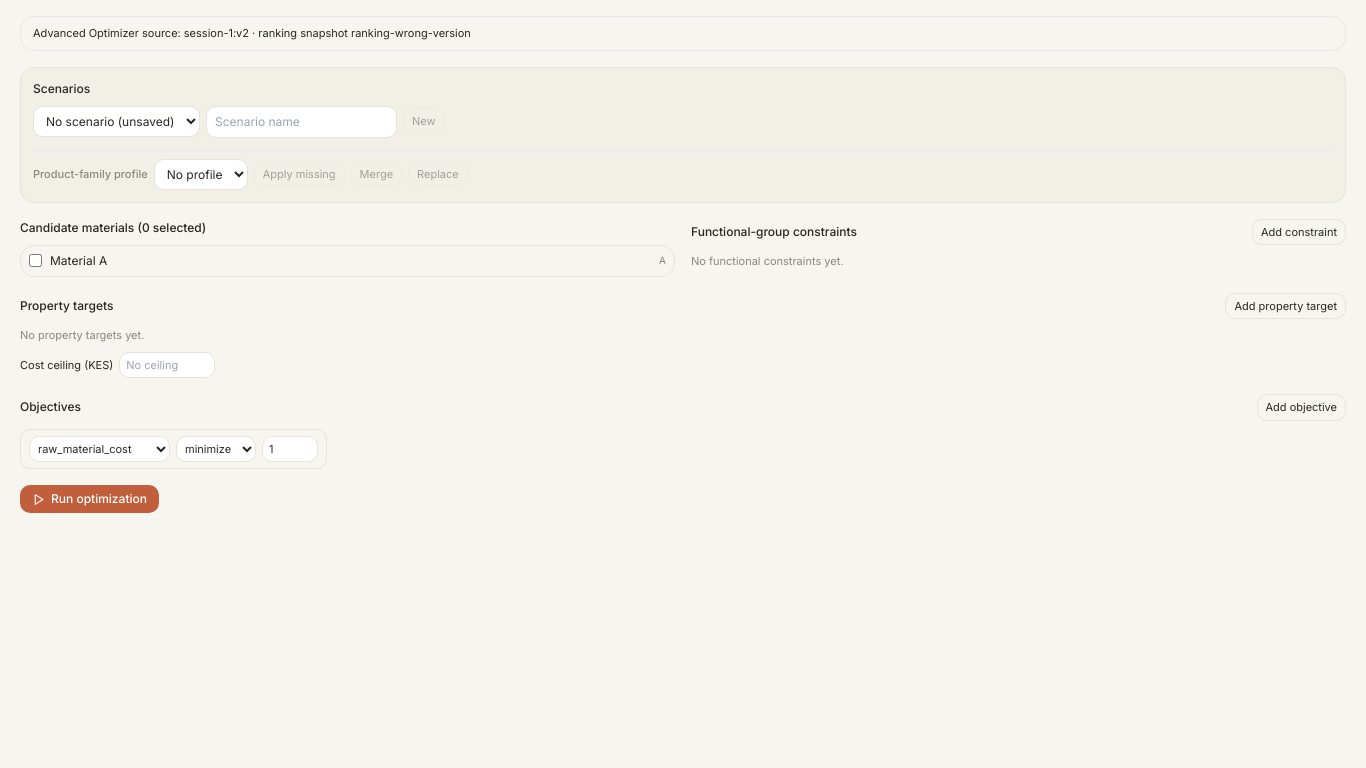
Test: AdvancedOptimizerPanel — run and result rendering › keeps the solver and run store untouched for wrong-version lineage
The image size is (1366, 768).
Expected: the text "Material A" is shown, top-left (50, 252), bottom-right (107, 270)
What coordinates should you click on to do the following:
click the checkbox labelled "Material A A"
I would click on:
 (36, 260)
Its box is top-left (29, 254), bottom-right (42, 267).
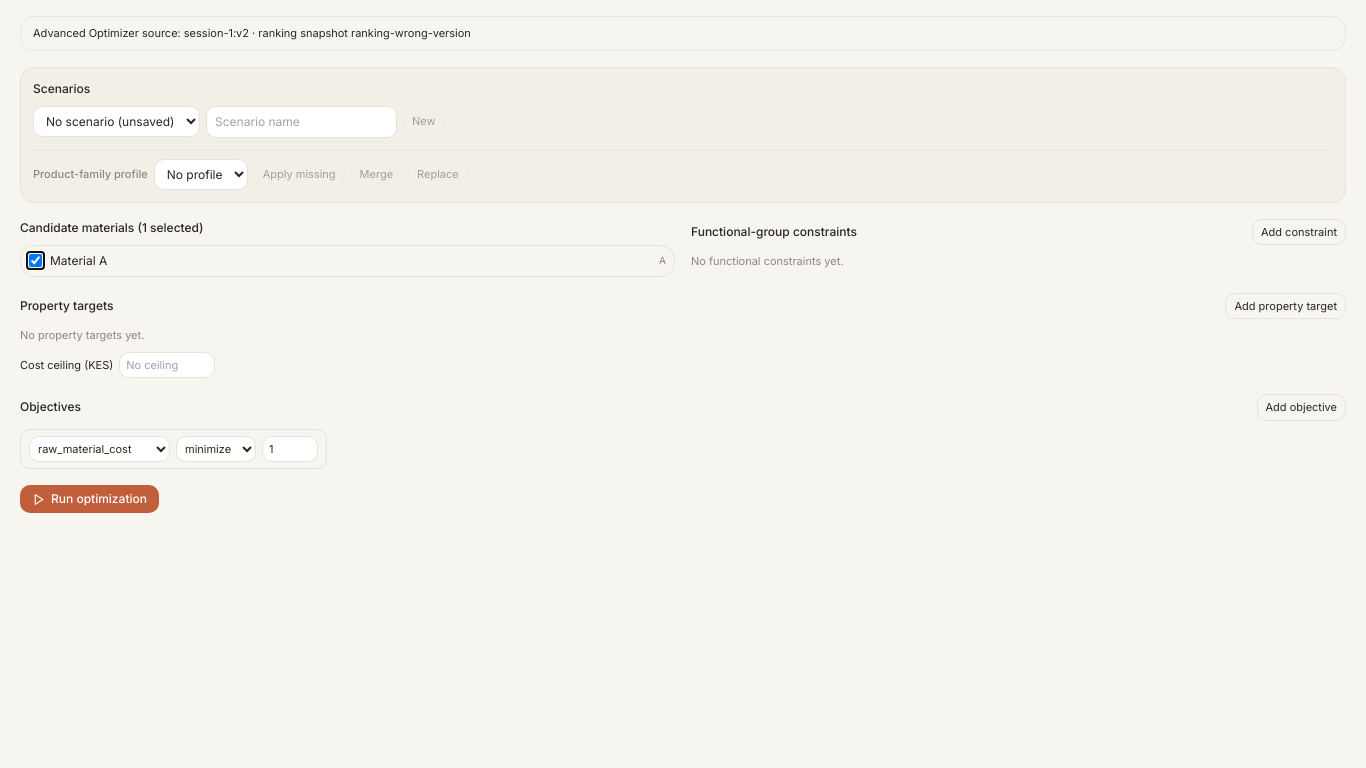
What coordinates should you click on to do the following:
click the button "Run optimization"
I would click on:
 (90, 499)
Its box is top-left (20, 485), bottom-right (159, 513).
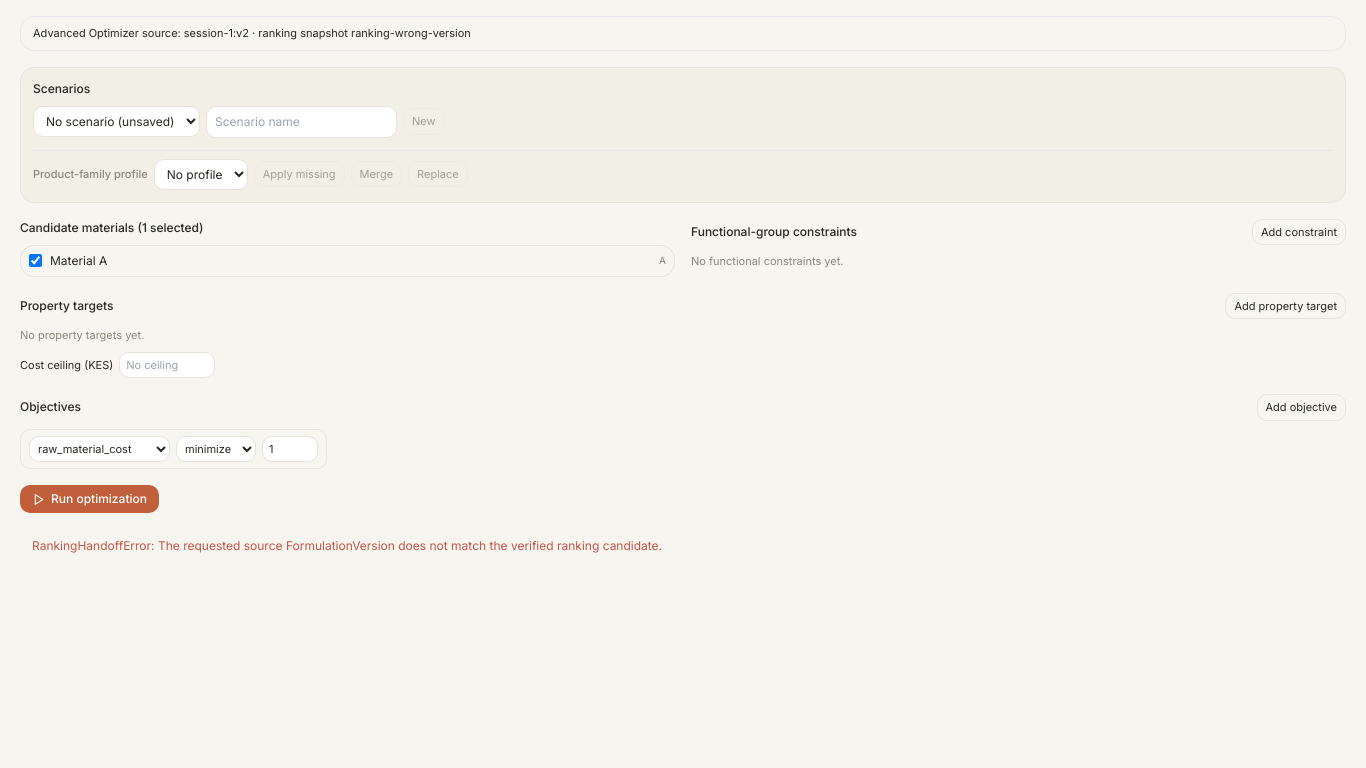
Expected: the 2nd message is shown, top-left (32, 538), bottom-right (662, 553)
